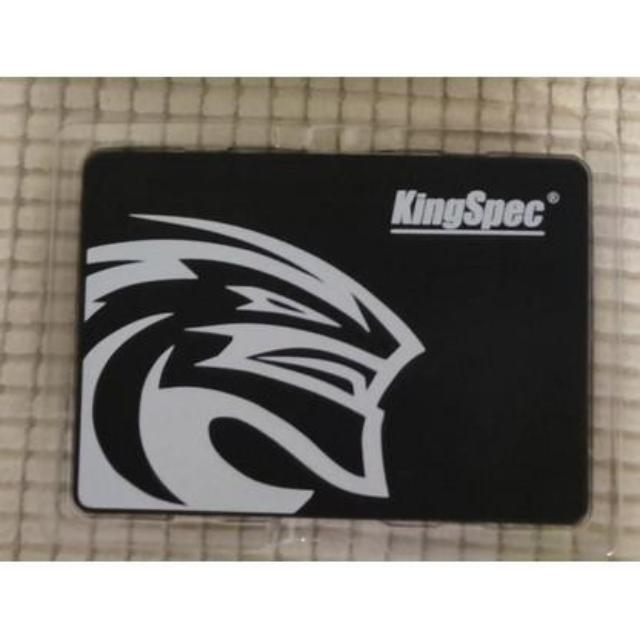DISK: (67, 128, 596, 543)
